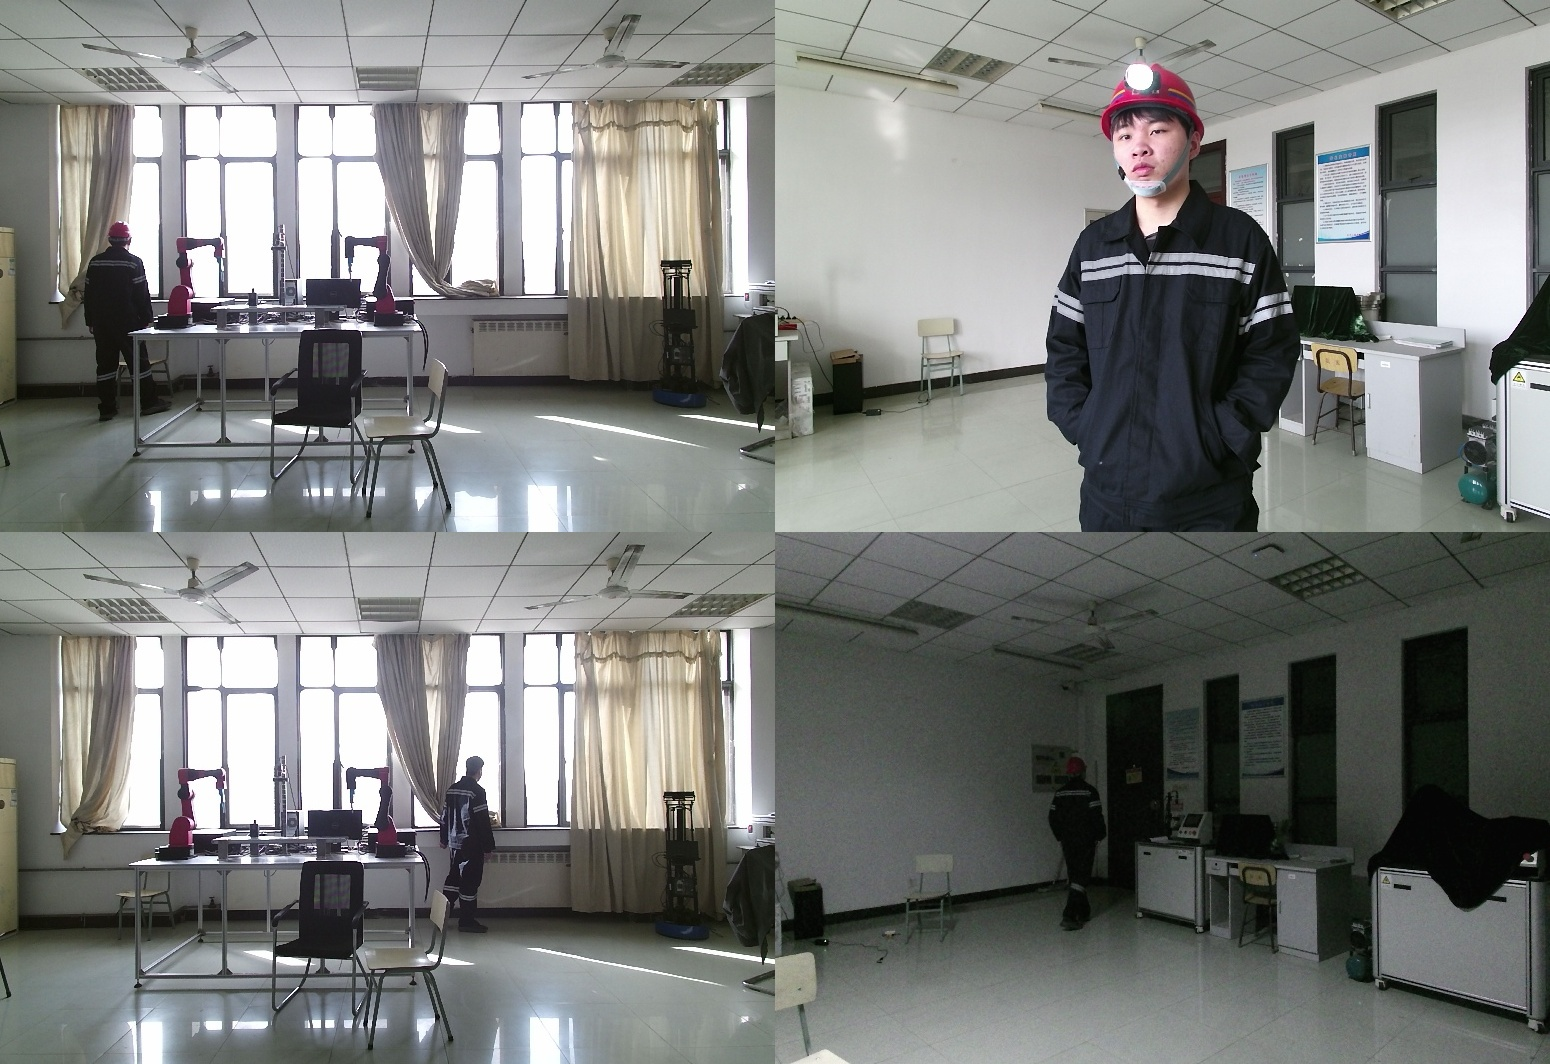person: (1047, 63, 1325, 532), (74, 222, 165, 424), (1032, 756, 1108, 945), (442, 757, 500, 944)
